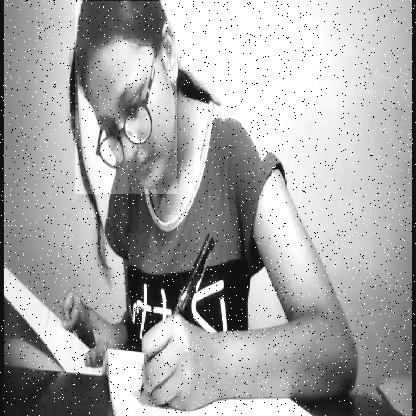Distracted: (75, 1, 177, 194)
